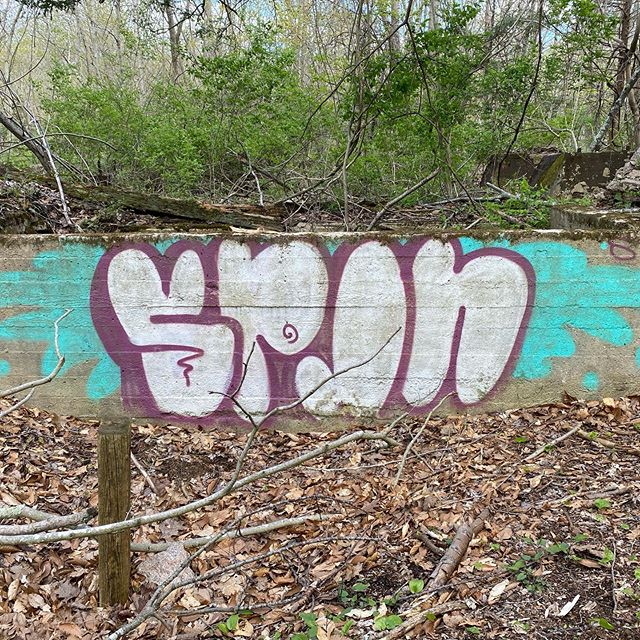graffiti: (44, 233, 567, 422)
vegetation: (1, 1, 634, 225), (17, 429, 640, 640)
